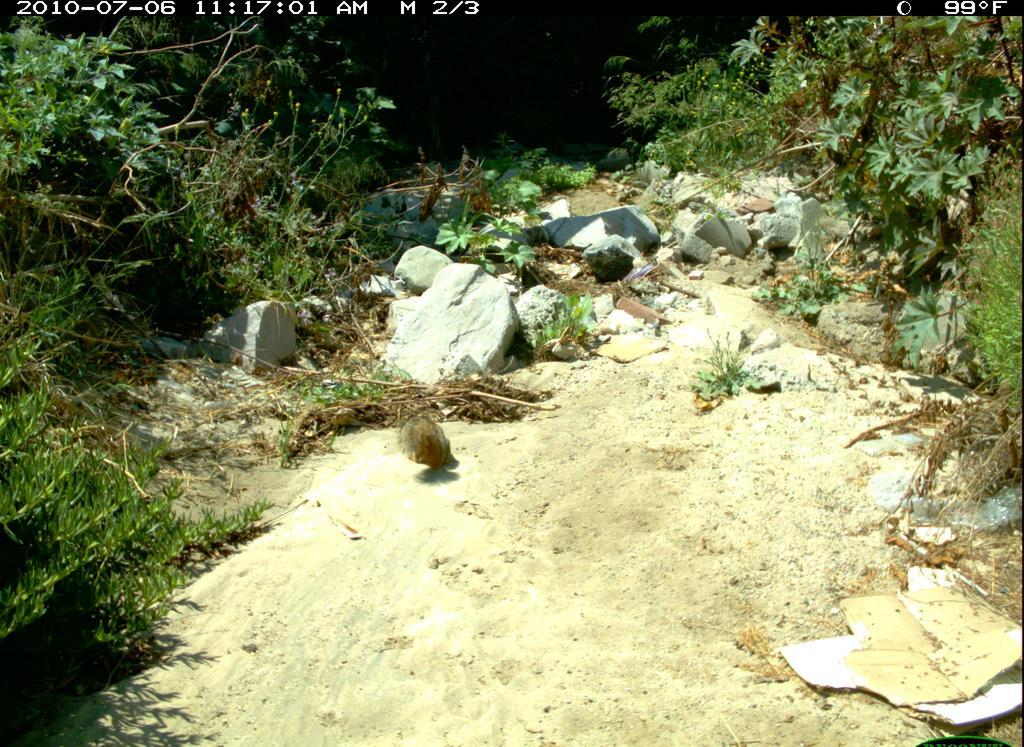squirrel: (377, 418, 478, 481)
